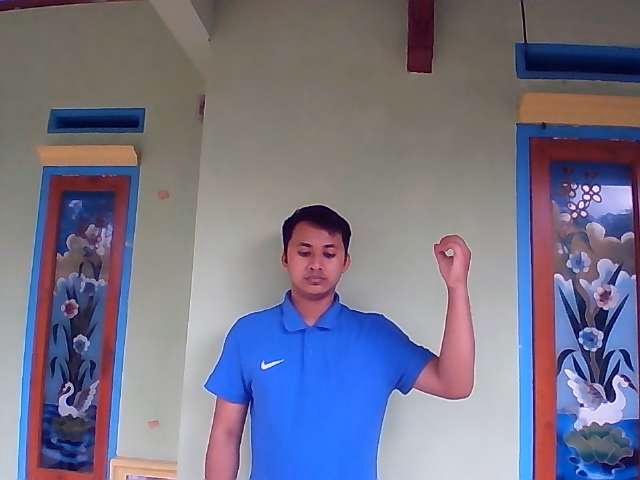O: (433, 233, 474, 287)
